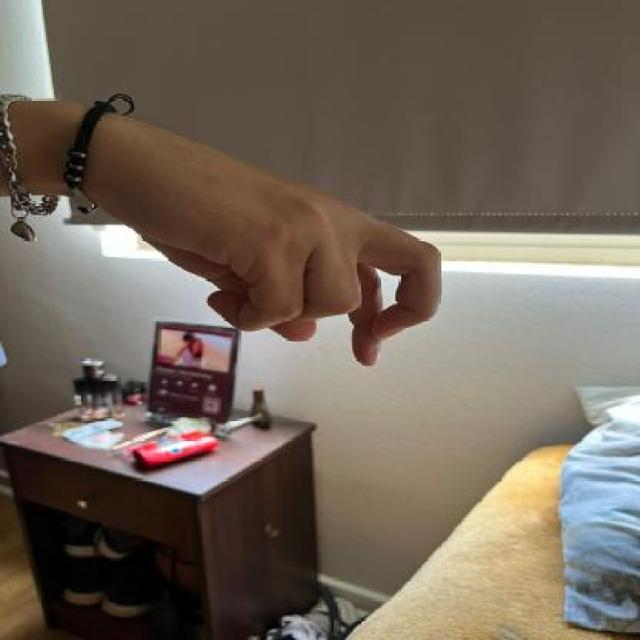P: (55, 84, 450, 378)
